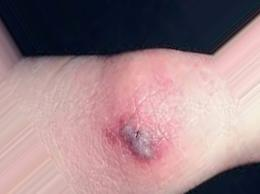Spider: (98, 106, 194, 179)
